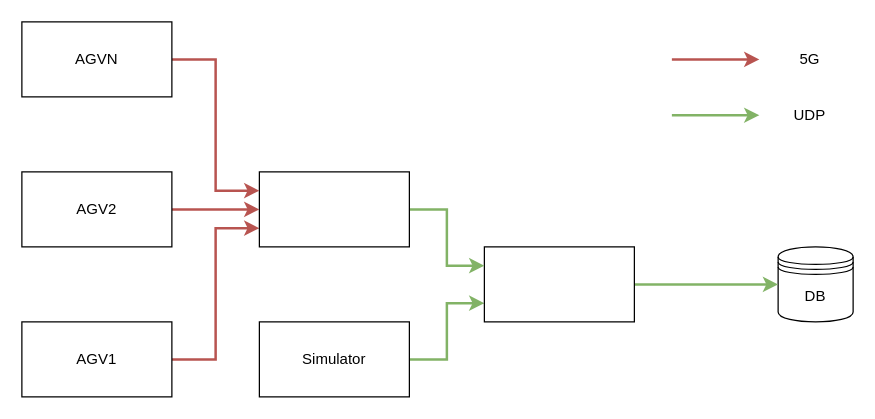
This 875x419 diagram has some shape labels left out. Here are the shapes that lost their labels. From the top down, the centre of each, then its label:
At point (333, 209): "Station".
At point (558, 284): "Reciever".
